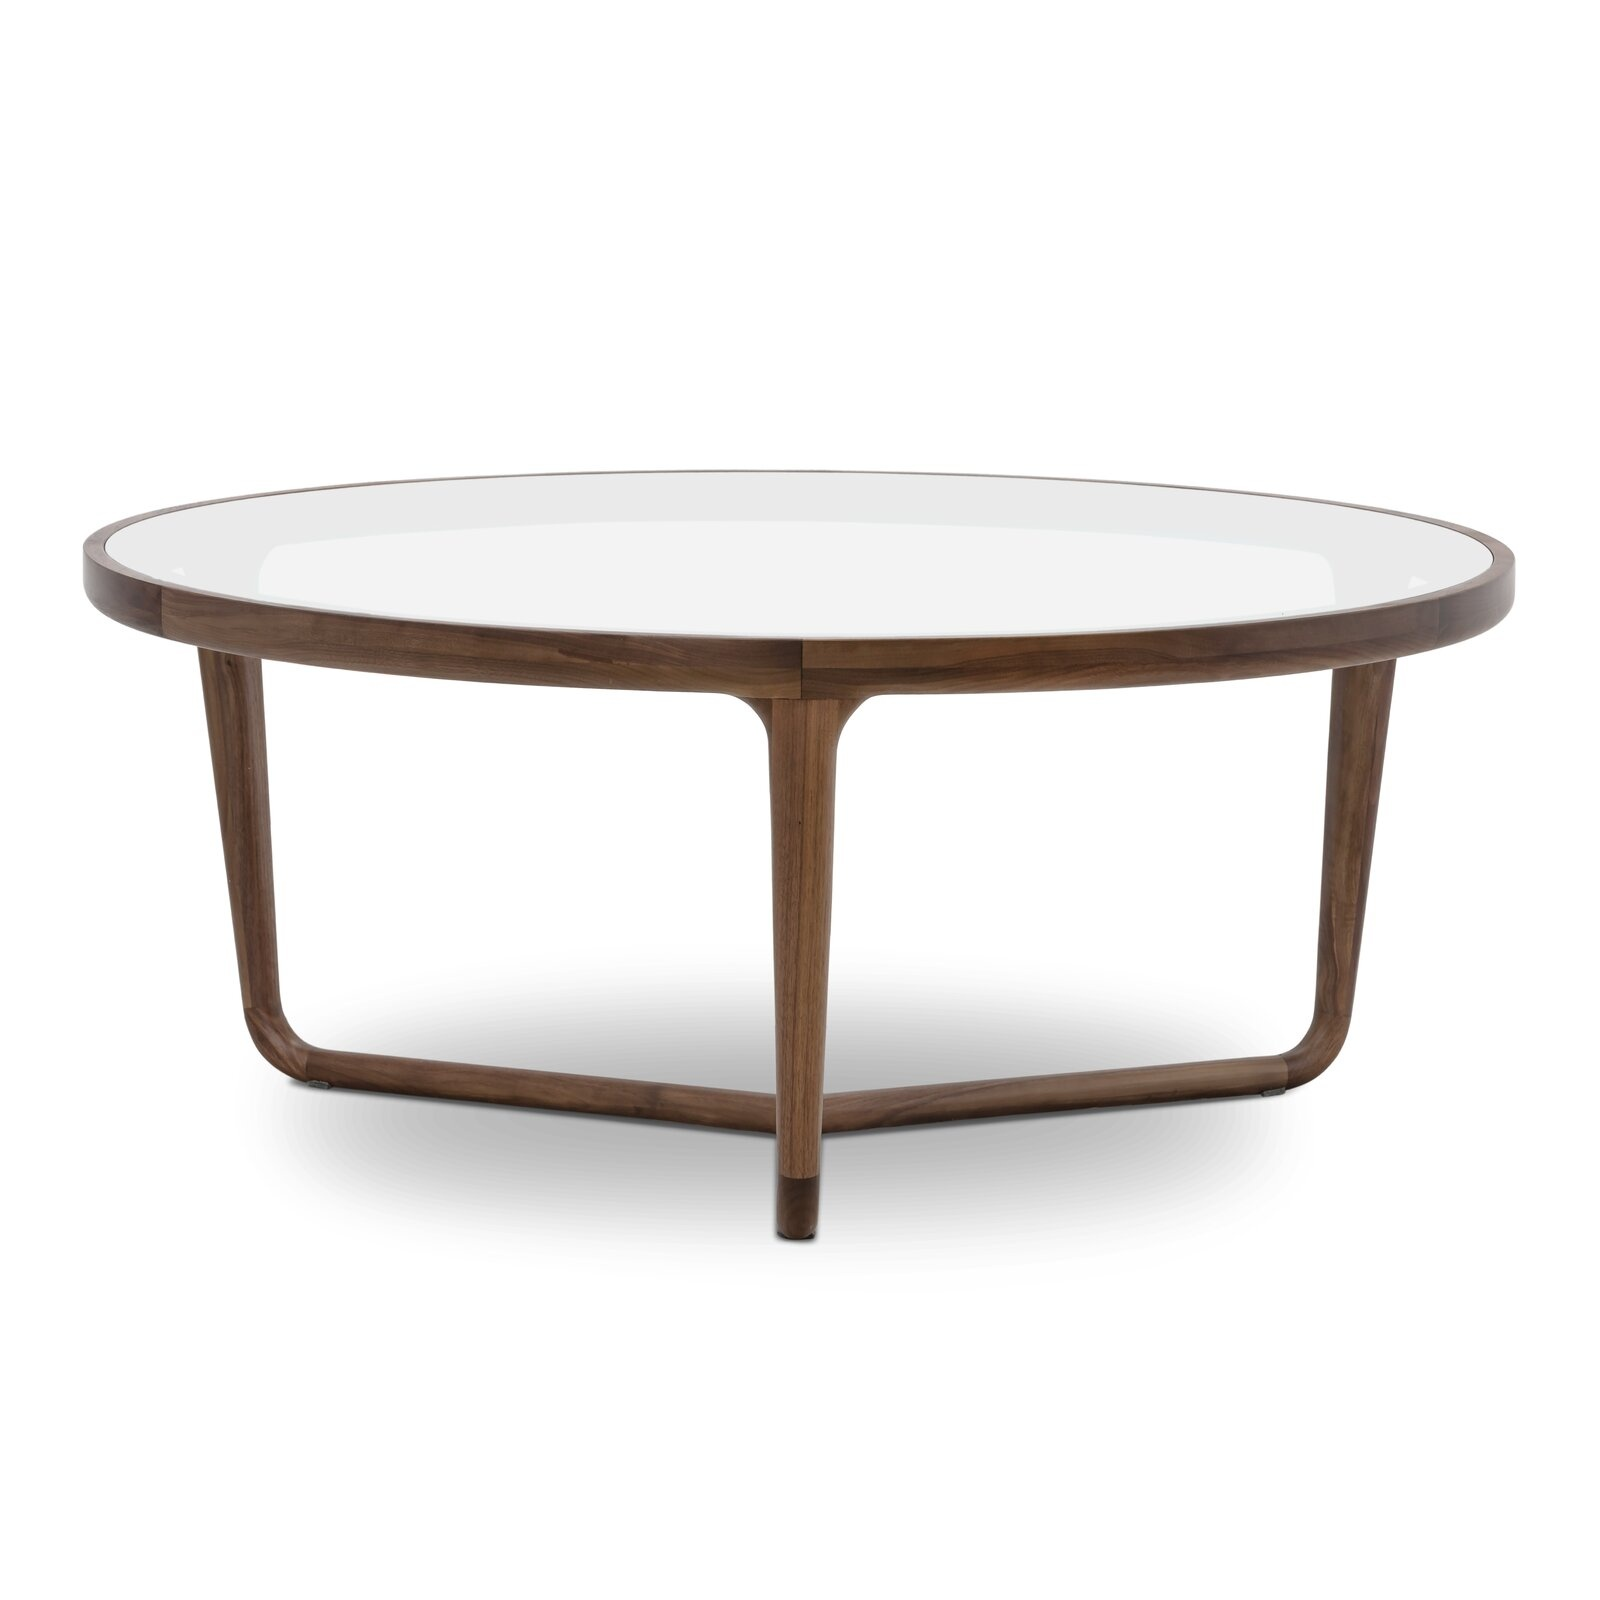obstacle: (84, 472, 1514, 1238)
